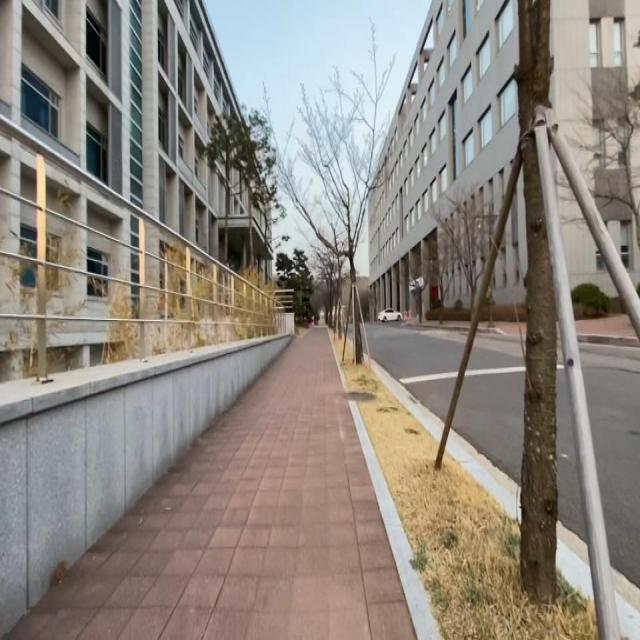sidewalk: (0, 326, 419, 640), (575, 314, 637, 337), (493, 322, 526, 337)
